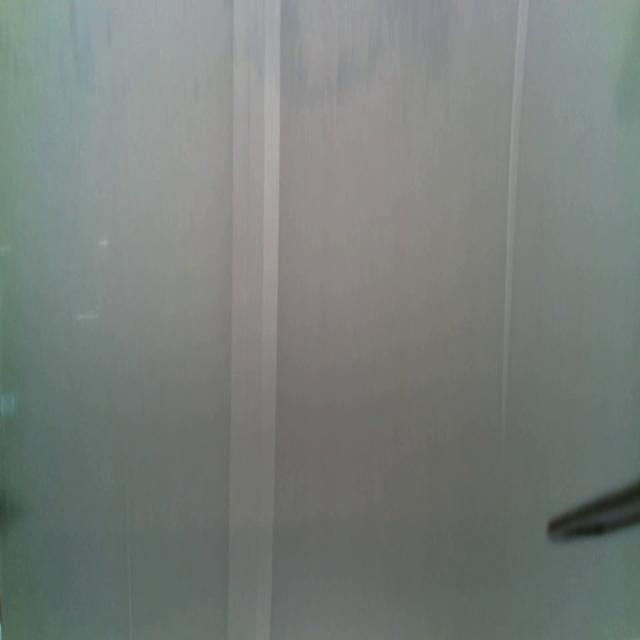crease: (226, 0, 283, 640), (500, 0, 529, 451), (125, 483, 133, 639)
